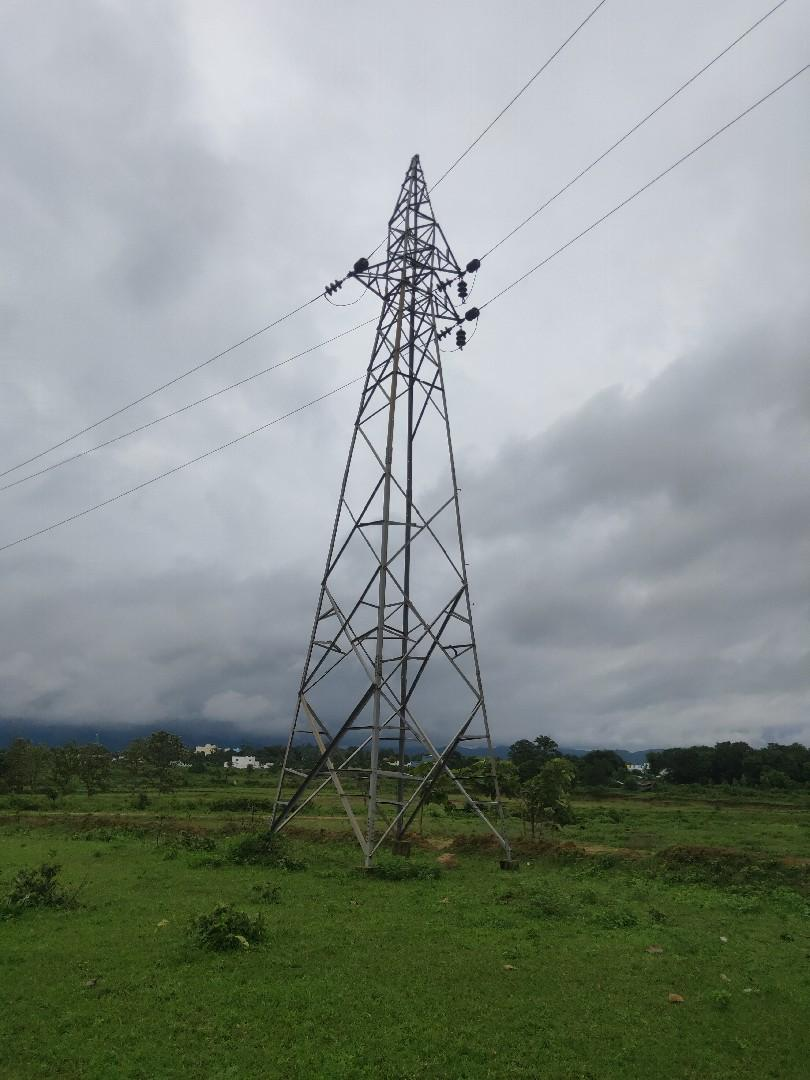GSM Antenna: (258, 153, 519, 852)
